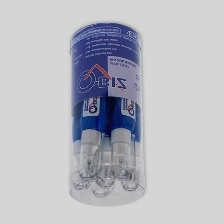correction_fluid: (87, 56, 120, 201), (77, 31, 107, 183), (91, 39, 120, 189), (68, 38, 94, 192), (108, 32, 135, 180), (118, 41, 143, 195)
plastic_box: (62, 19, 148, 208)
